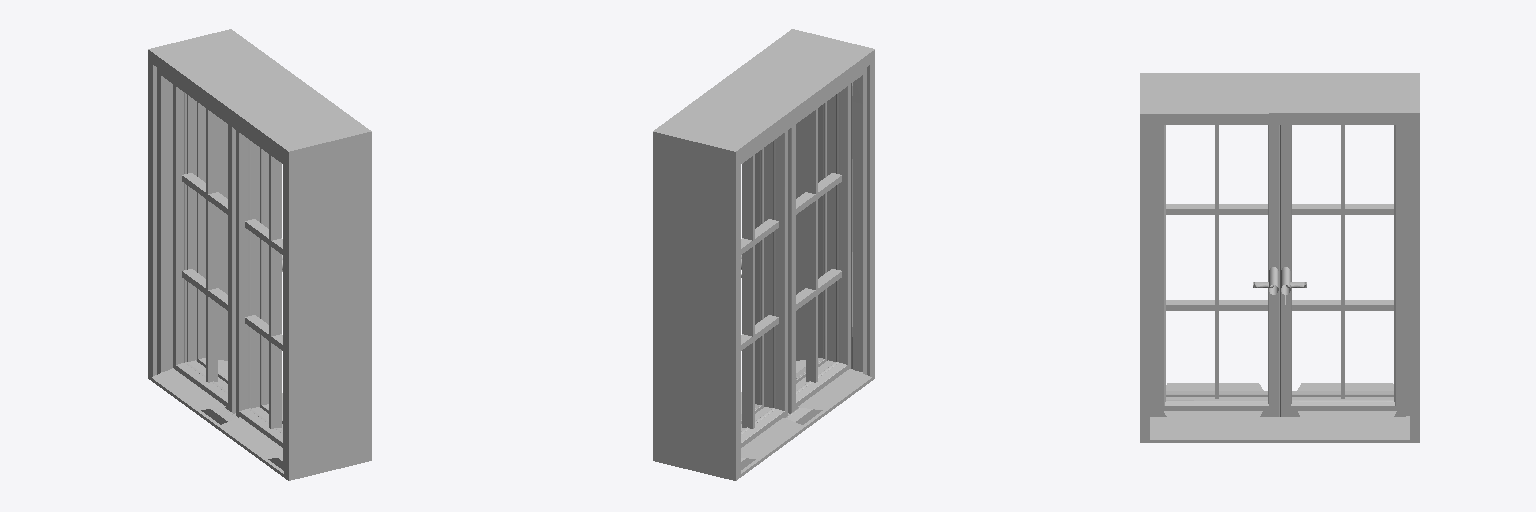
File: window.obj
3 renders of one model, left to right at view 1: azimuth 30°, elevation 25°; view 2: azimuth 150°, elevation 25°; view 3: azimuth 270°, elevation 25°, orthographic.
Parts seen in each view (by area): view 1: 16639_12_Pane_Casement_Window-White_V1.001; view 2: 16639_12_Pane_Casement_Window-White_V1.001; view 3: 16639_12_Pane_Casement_Window-White_V1.001.
Boxes of the visible parts, box(x1,y1,x2,y2) form: 16639_12_Pane_Casement_Window-White_V1.001: box(148, 29, 371, 480); 16639_12_Pane_Casement_Window-White_V1.001: box(653, 29, 874, 480); 16639_12_Pane_Casement_Window-White_V1.001: box(1140, 73, 1419, 442).
Bounding box in the file's own units: 0.389 × 1.27 × 0.9821.